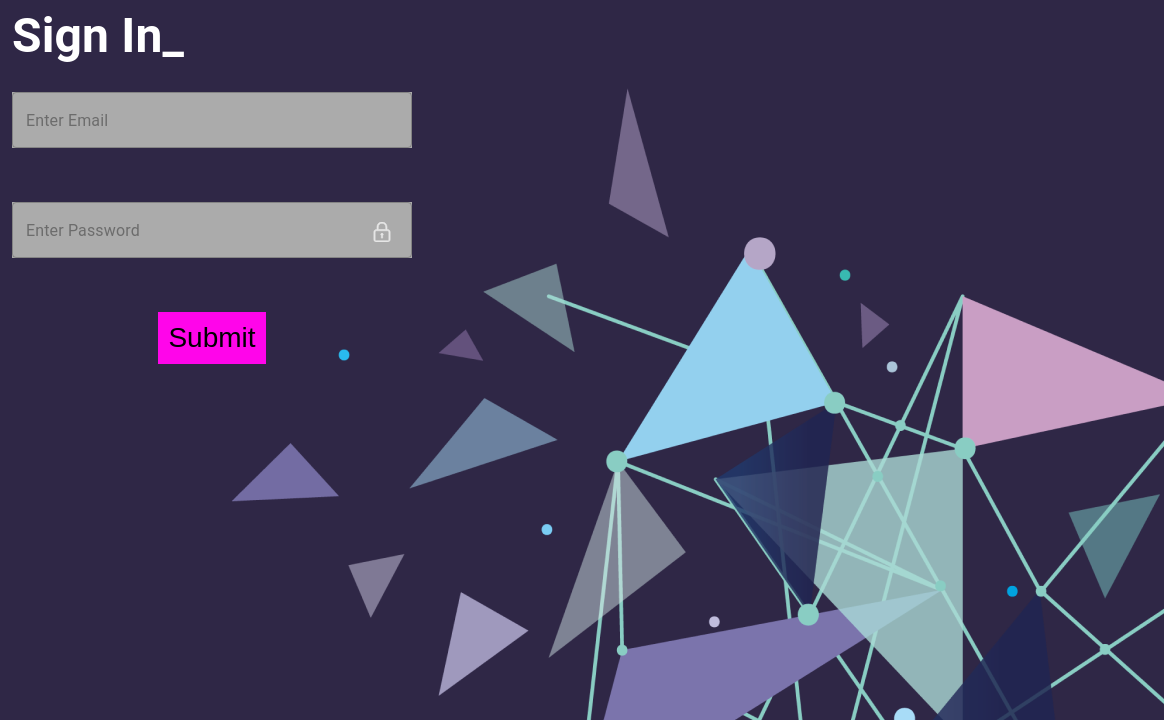
Sign In › shows error messages
The width and height of the screenshot is (1164, 720).
Click the button "Submit" at point(212, 338), box [158,312,266,364]
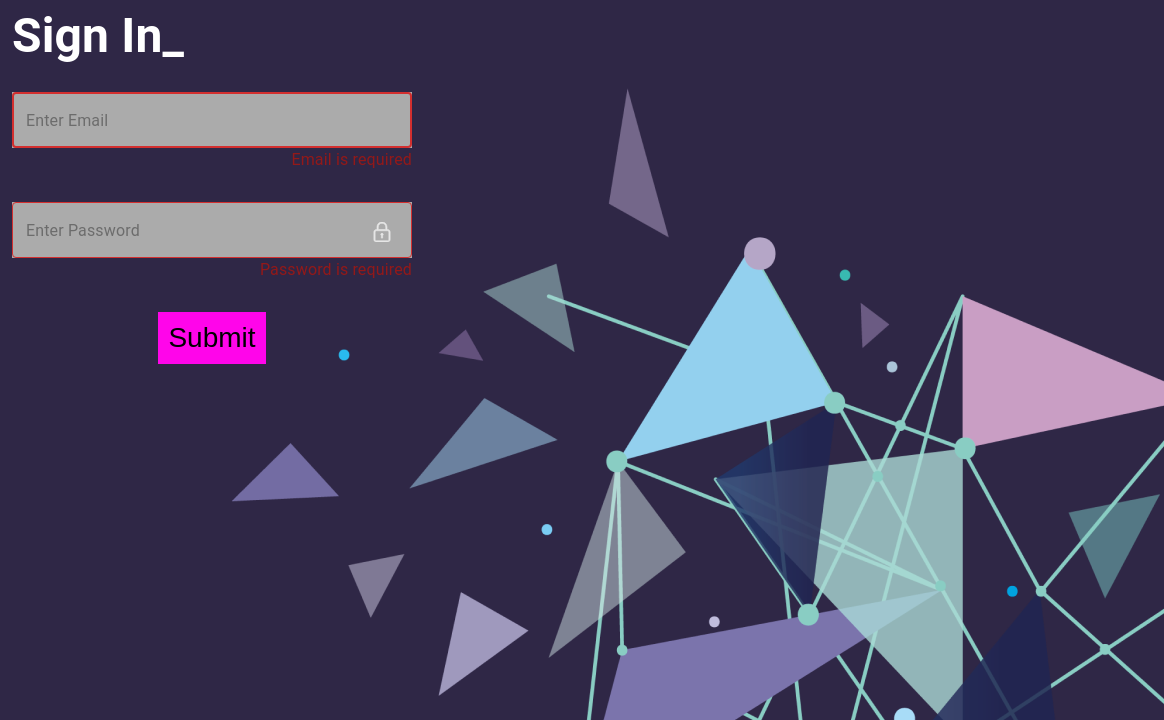
Result: the text "Email is required" is shown at [291,150,412,169]
Result: the text "Password is required" is shown at [260,260,412,279]
